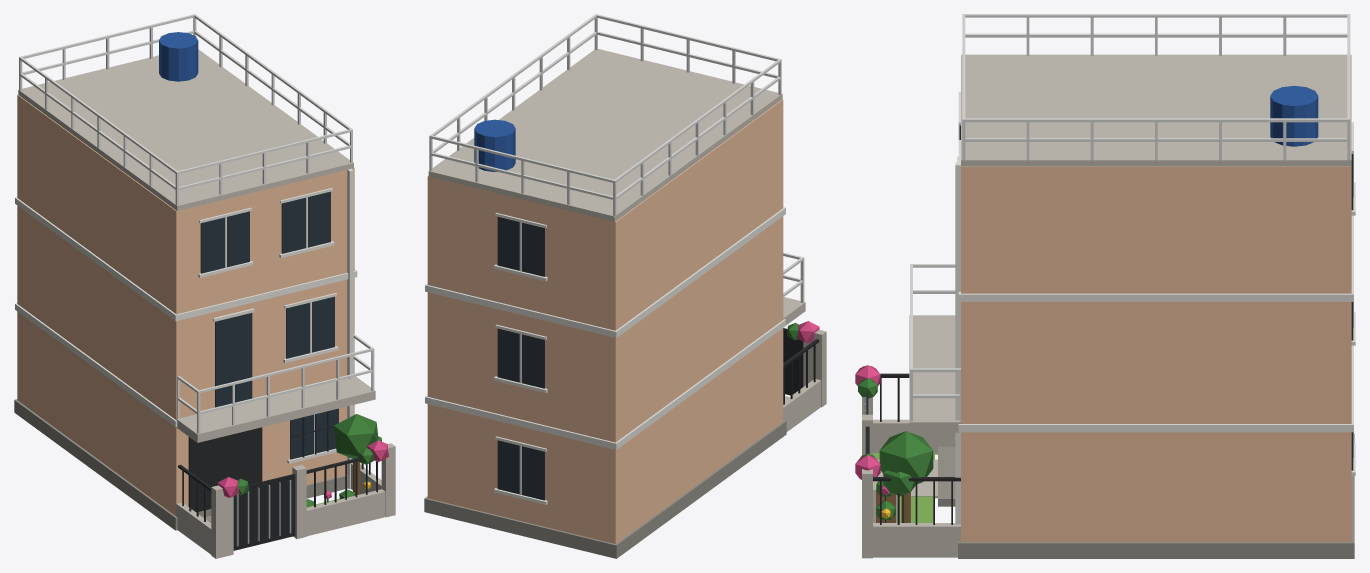
Rendered from BAY_F_ThreeStorey_N.glb.
The picture shows the model from 3 angles, left to right: view 1: azimuth 30°, elevation 25°; view 2: azimuth 150°, elevation 25°; view 3: azimuth 270°, elevation 25°; orthographic projection. The views are drawn at different scales.
Visible parts, largest first — view 1: BAY_F_ThreeStorey_N; view 2: BAY_F_ThreeStorey_N; view 3: BAY_F_ThreeStorey_N.
Part boxes in pixels (x1,y1,x2,y2): BAY_F_ThreeStorey_N: [14, 14, 395, 558]; BAY_F_ThreeStorey_N: [424, 14, 826, 558]; BAY_F_ThreeStorey_N: [855, 14, 1355, 558].
Size of the model in its own units: 4.5 by 8.4 by 8.71.
Materials: 1 (1 with a texture image).
